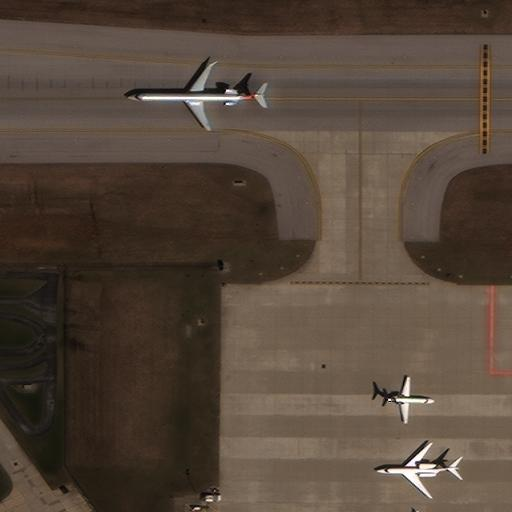Medium Civil Transport: (127, 64, 266, 131), (376, 441, 460, 499), (374, 377, 435, 423)
